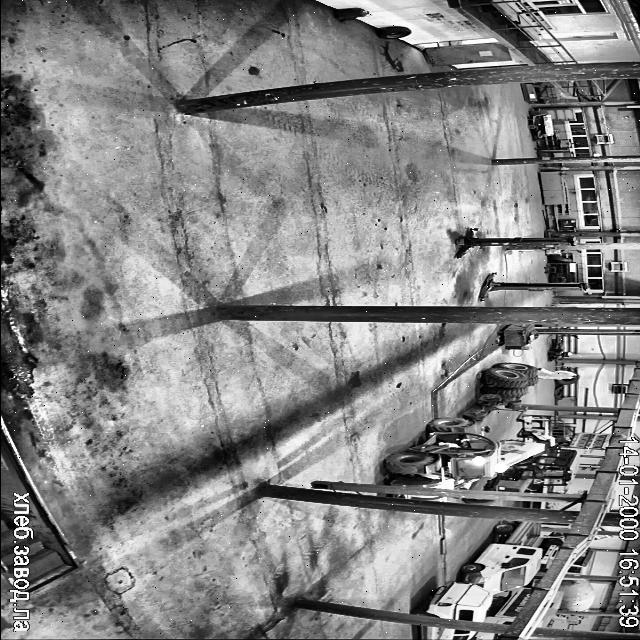class4: (538, 368, 578, 380)
class6: (384, 418, 508, 500), (484, 448, 580, 492), (463, 498, 497, 504), (532, 496, 537, 500)
class7: (461, 521, 541, 592), (412, 581, 492, 620), (484, 588, 532, 624), (422, 626, 475, 640), (567, 548, 595, 574), (540, 535, 563, 565), (537, 600, 560, 626), (477, 632, 497, 640), (553, 592, 562, 598), (396, 494, 398, 496)
tractor: (334, 8, 368, 21)
truck: (455, 228, 575, 257), (479, 272, 588, 300)
